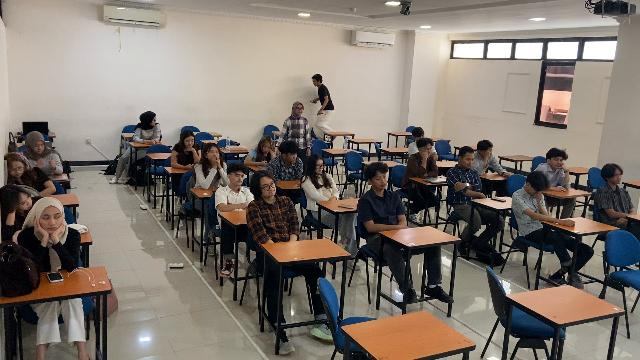bosan: (41, 211, 63, 233), (18, 193, 33, 209), (261, 179, 275, 196), (375, 174, 388, 189), (11, 162, 23, 178), (232, 170, 243, 185), (208, 147, 220, 160), (610, 171, 622, 184), (552, 158, 565, 169), (465, 155, 475, 169), (35, 141, 45, 154), (422, 144, 432, 156), (289, 149, 297, 164), (316, 161, 324, 173), (185, 138, 194, 148), (263, 144, 271, 153)
